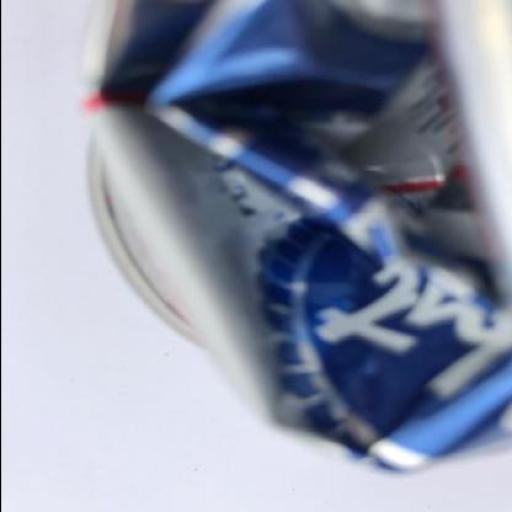metal: (81, 1, 511, 480)
